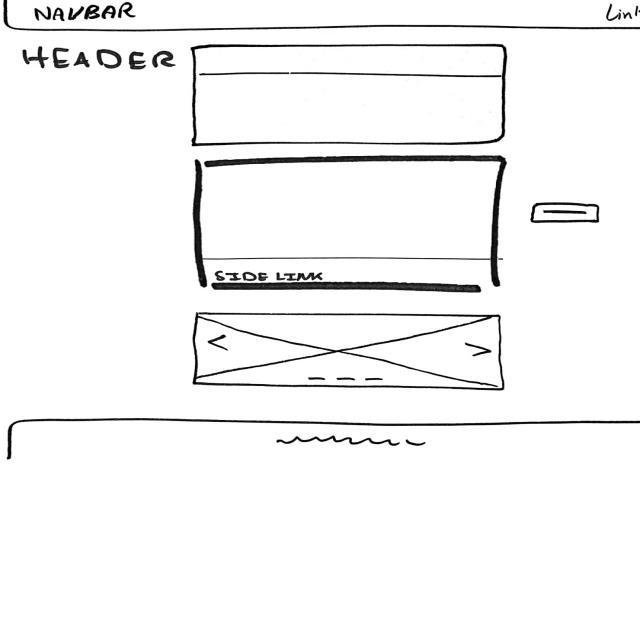container: (191, 157, 509, 295), (186, 41, 513, 149), (2, 1, 640, 32)
icon-button: (527, 202, 604, 226)
image: (191, 311, 508, 393)
label: (22, 44, 180, 72), (35, 1, 141, 27), (215, 269, 329, 283), (603, 3, 640, 25)
text: (276, 435, 432, 449)
